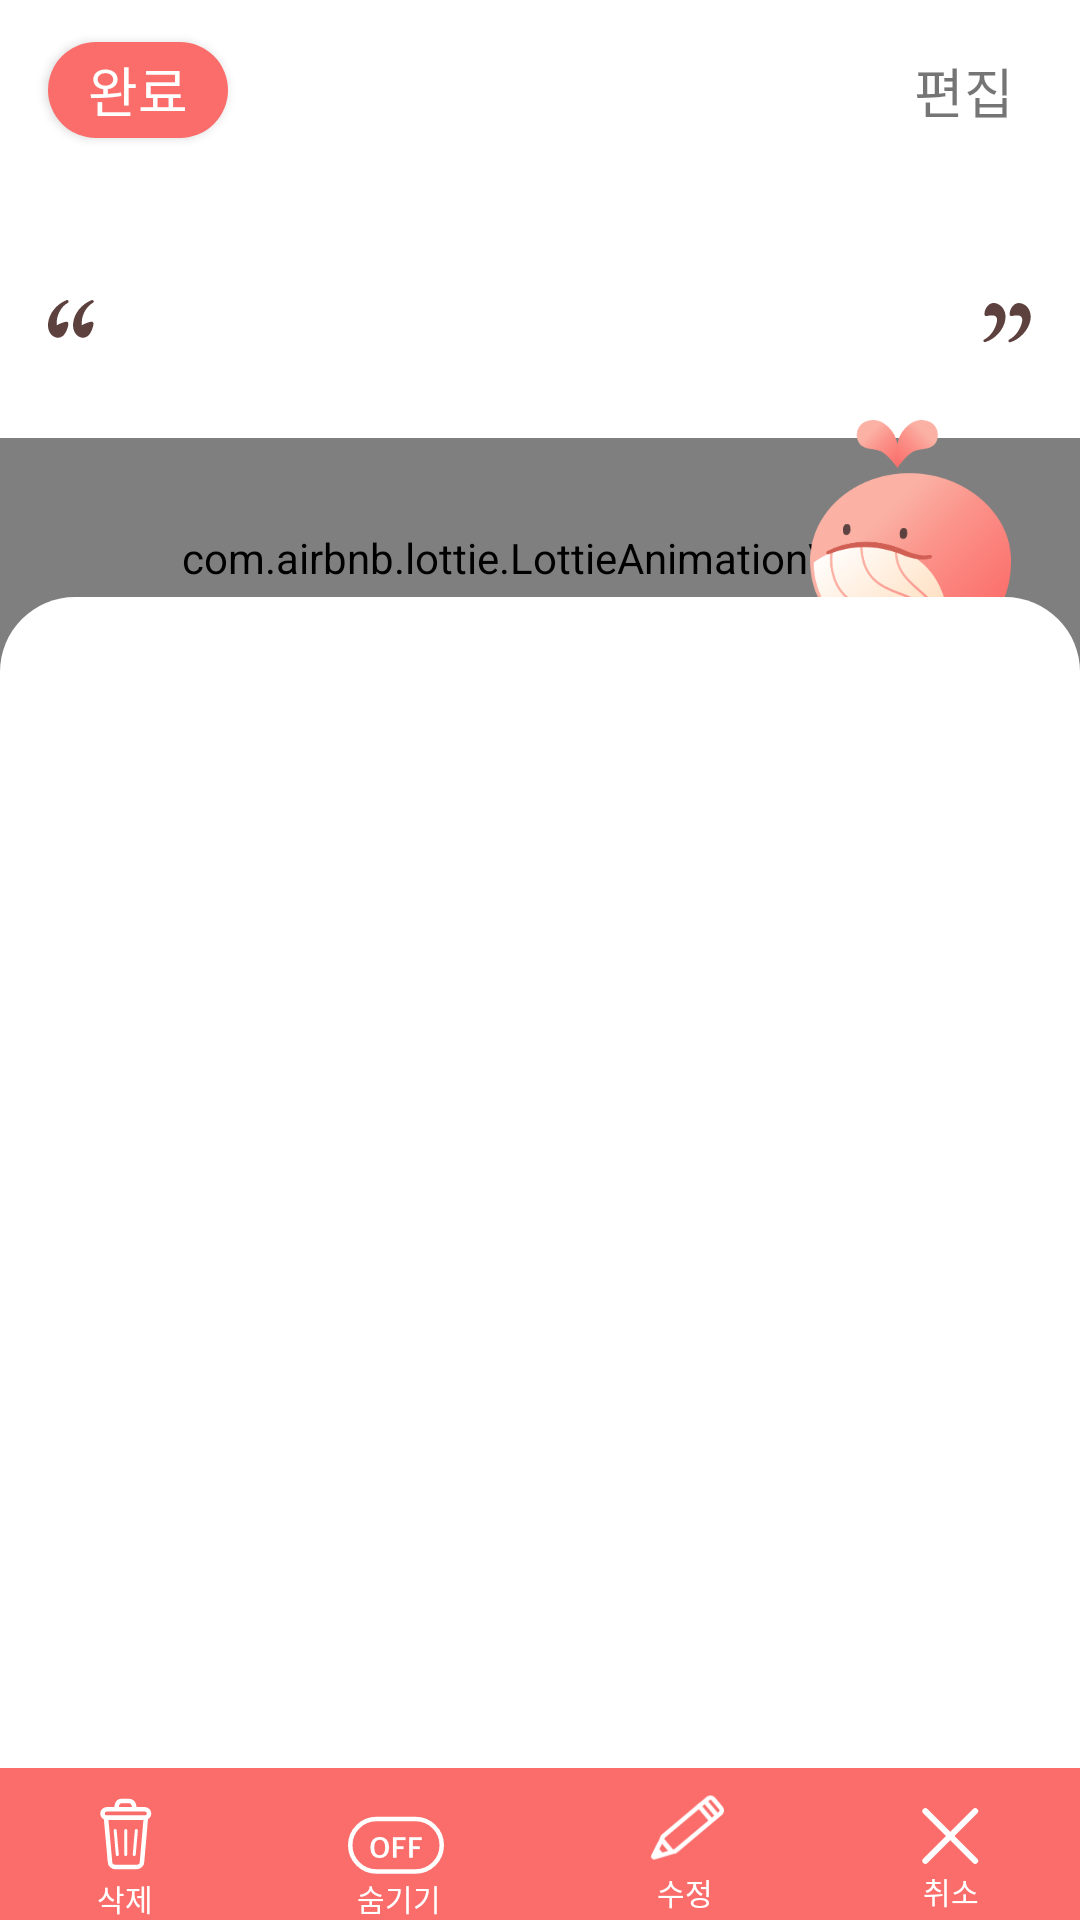

Icons on this 1080px×1920px Android screen, each with the point to tap as (x=x, y=y):
home quote left: (x=71, y=319)
home quote right: (x=1007, y=323)
